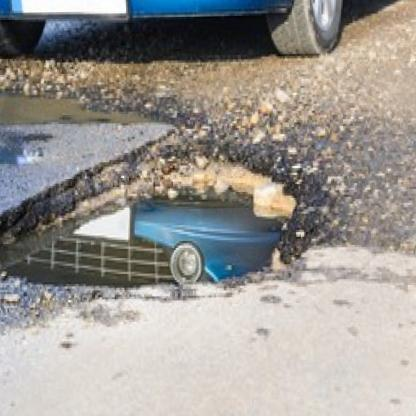pothole: (0, 131, 311, 298)
